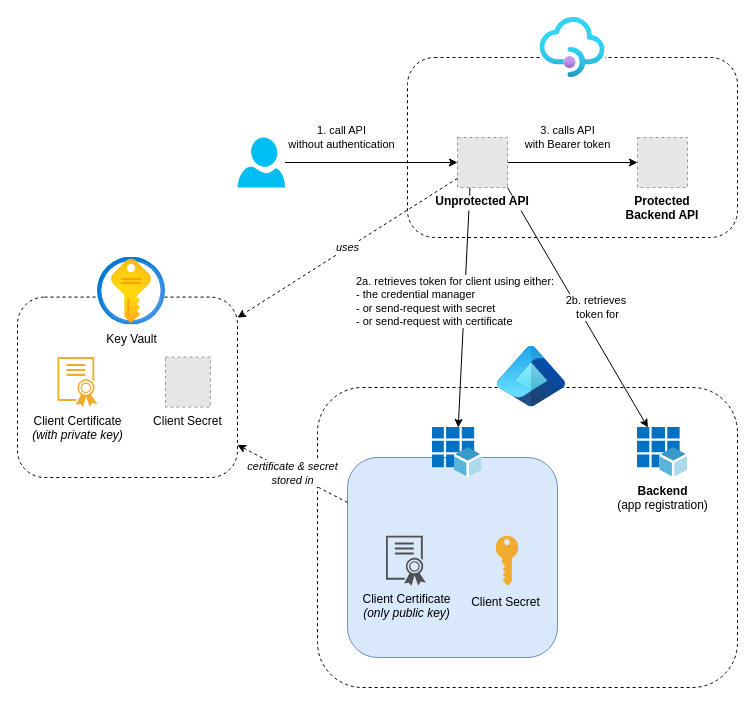
This 755x705 diagram has some shape labels left out. Grey dashed boxes stand in for pictures. Each missing label, with the centre of its shape:
"API Management" belongs at point 572,47.
"Client" belongs at point 260,162.
"Client (app registration)" belongs at point 457,452.
"Microsoft Entra ID" belongs at point 531,376.
